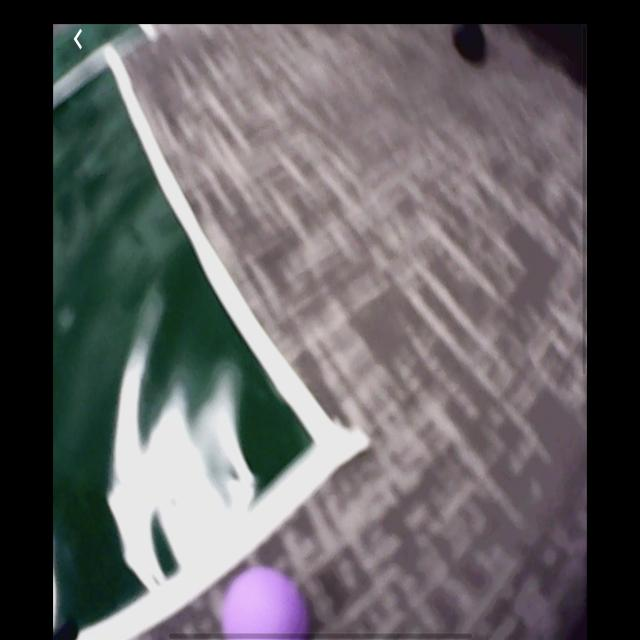ball: (221, 565, 312, 639)
